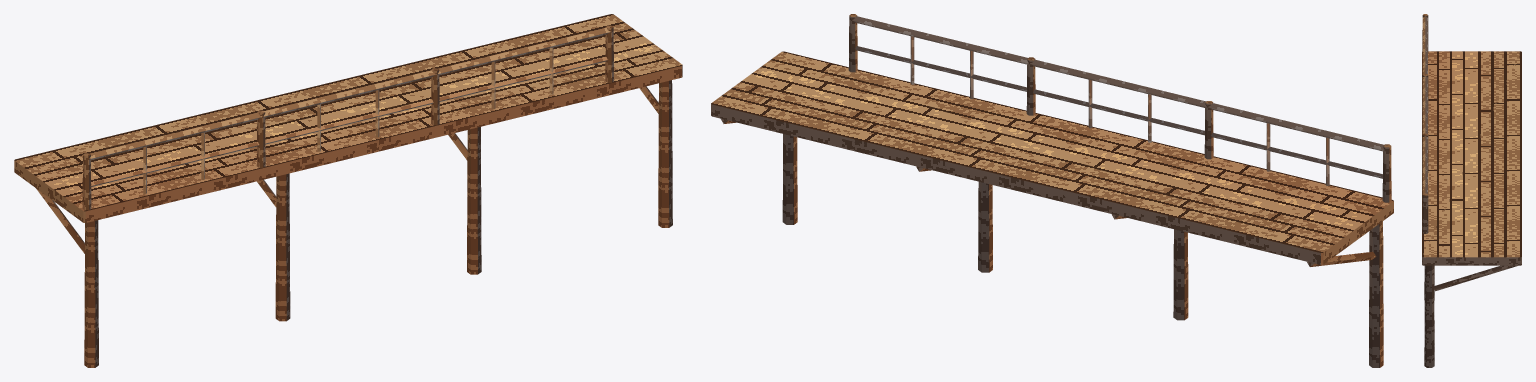
File: wtown.gallery.glb
3 views of the same model, side by side, from view 1: azimuth 30°, elevation 25°; view 2: azimuth 150°, elevation 25°; view 3: azimuth 270°, elevation 25° (orthographic). The views are drawn at different scales.
Parts seen in each view (by area): view 1: kit_deck, kit_railing, kit_posts, kit_braces; view 2: kit_deck, kit_railing, kit_posts, kit_braces; view 3: kit_deck, kit_railing, kit_posts, kit_braces.
Part boxes in pixels (left/top/right/bottom): kit_deck: left=14, top=14, right=682, bottom=222; kit_railing: left=82, top=25, right=613, bottom=210; kit_posts: left=84, top=80, right=672, bottom=367; kit_braces: left=36, top=86, right=658, bottom=253; kit_deck: left=711, top=51, right=1393, bottom=264; kit_railing: left=848, top=14, right=1391, bottom=202; kit_posts: left=782, top=134, right=1383, bottom=367; kit_braces: left=721, top=119, right=1376, bottom=266; kit_deck: left=1422, top=51, right=1521, bottom=265; kit_railing: left=1422, top=14, right=1428, bottom=233; kit_posts: left=1424, top=265, right=1434, bottom=367; kit_braces: left=1434, top=265, right=1517, bottom=291.
Size of the model in its own units: 11.72 by 4.01 by 2.4.
Materials: 4 (4 with a texture image).
